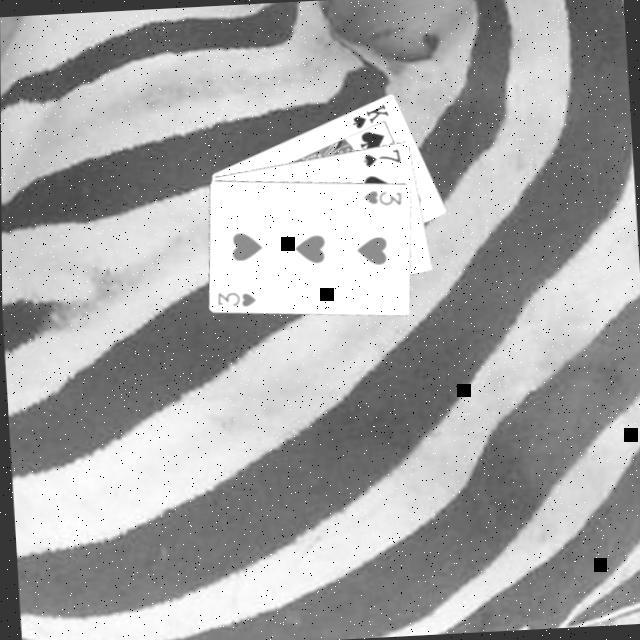3H: (215, 288, 260, 312), (362, 187, 404, 210)
7S: (361, 146, 404, 170)
KS: (348, 100, 394, 132)
